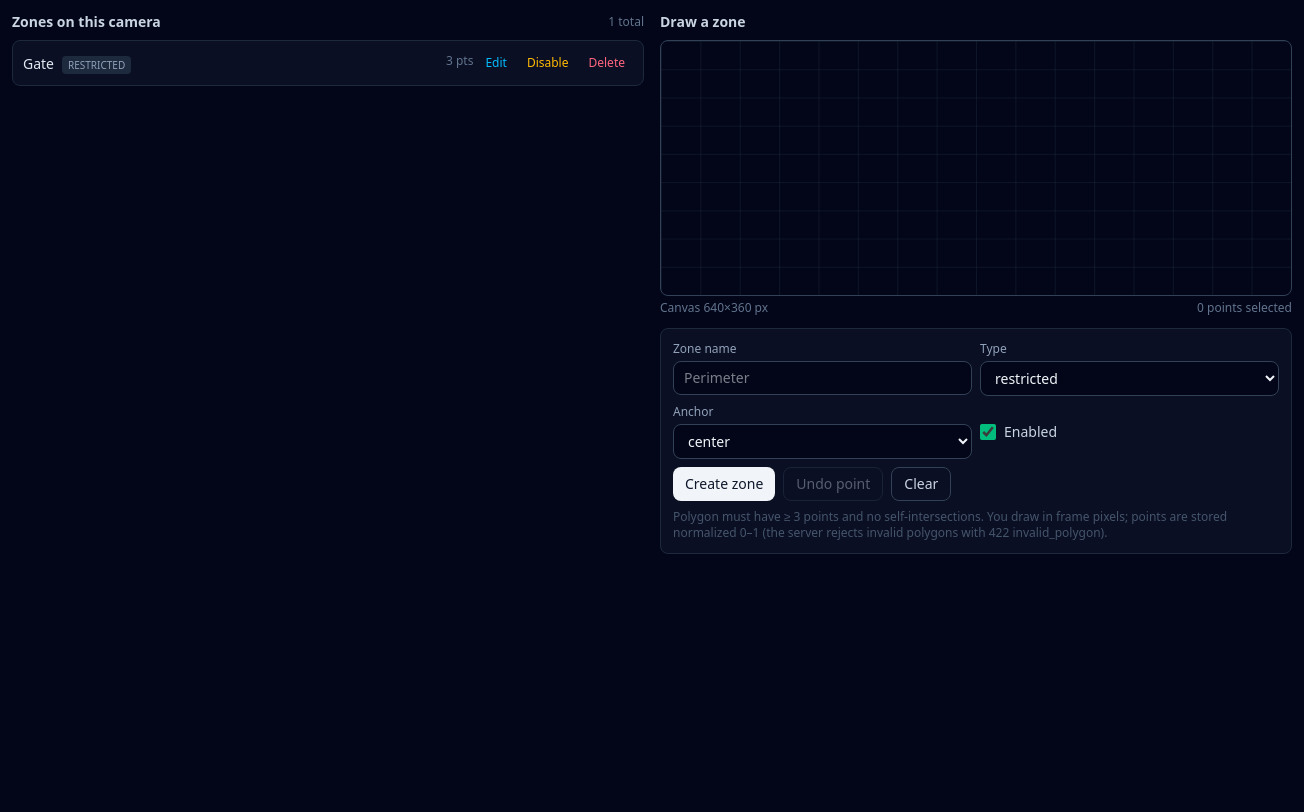
Test: admin can disable and re-enable a zone from the list
expect the list item with test id "zone-Gate" is shown: met, box [12, 40, 644, 86]
Step 1. Click the button "Disable" → {"x": 548, "y": 63}, box [519, 53, 576, 73]
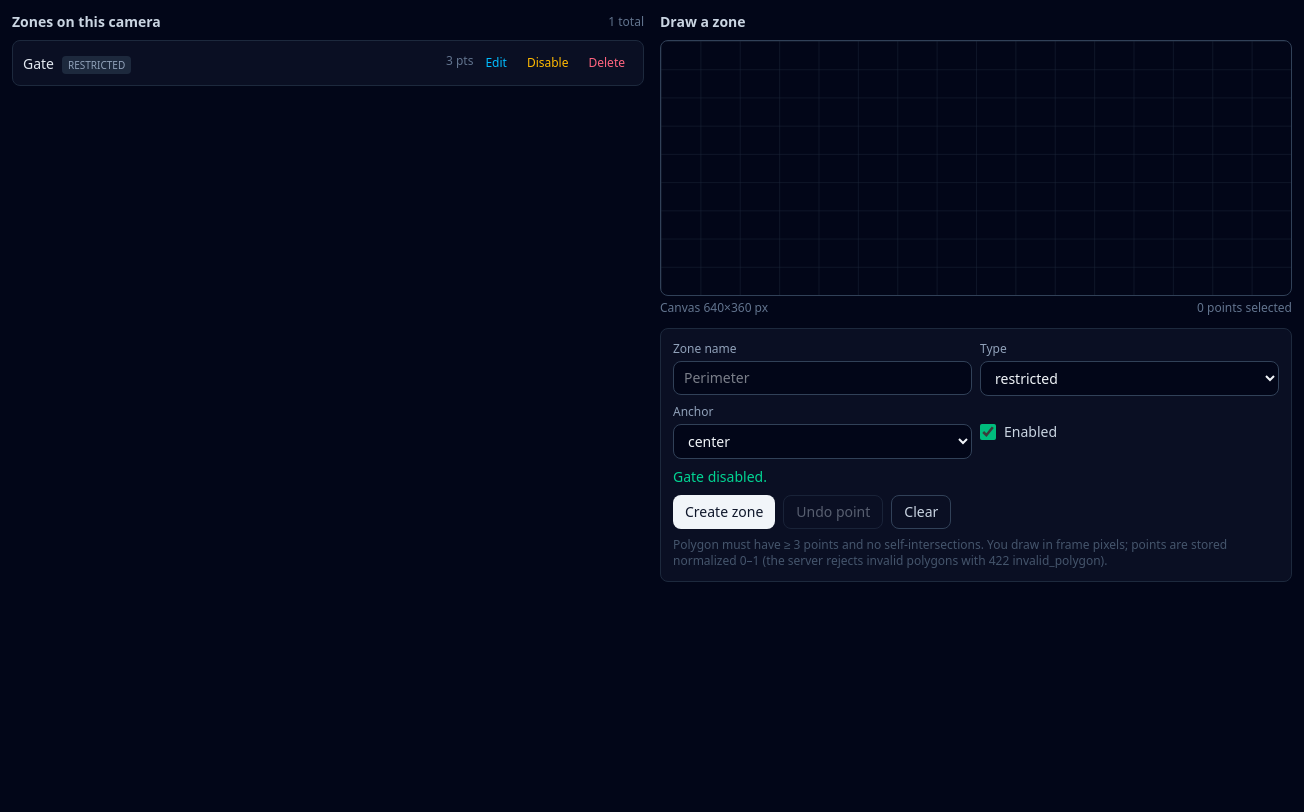
expect the text "Gate disabled." is shown: met, box [673, 467, 767, 486]
